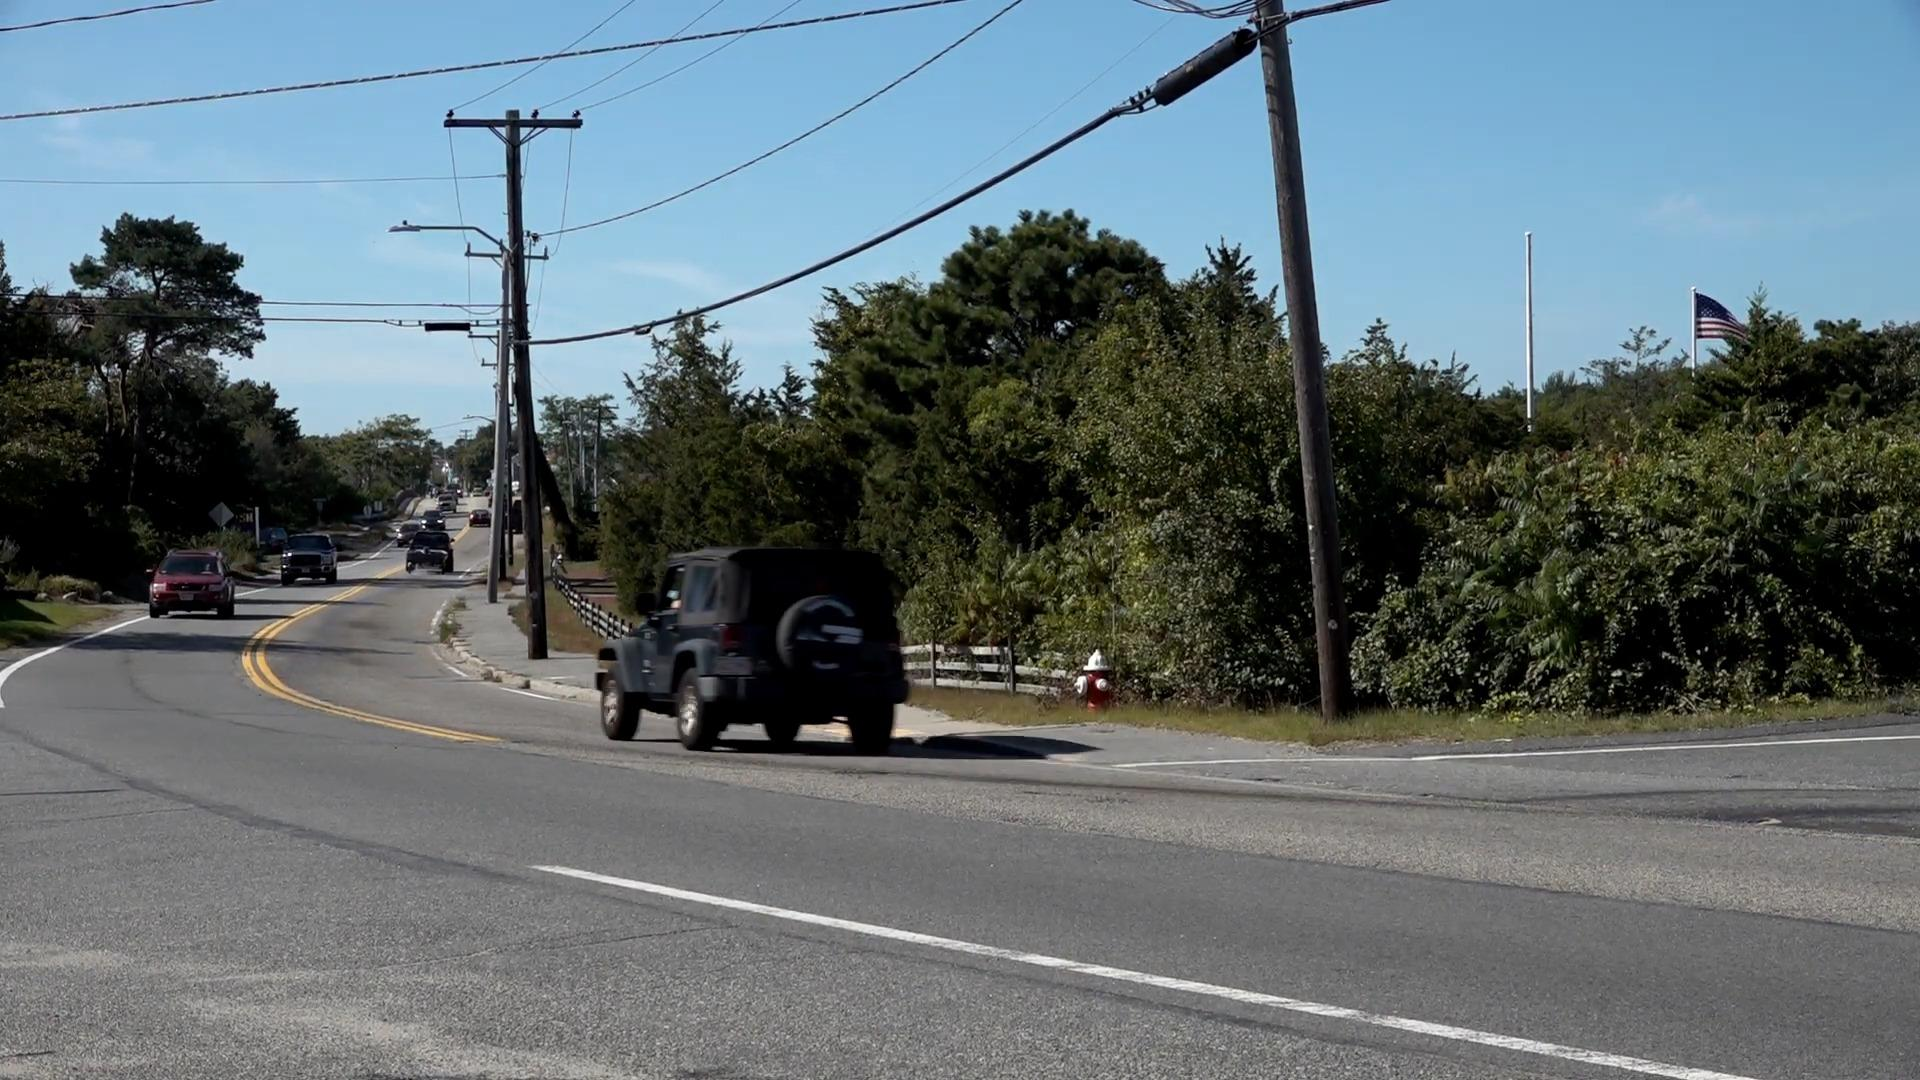pickup: (277, 535, 342, 580)
suv: (596, 550, 918, 746), (145, 550, 245, 616)
